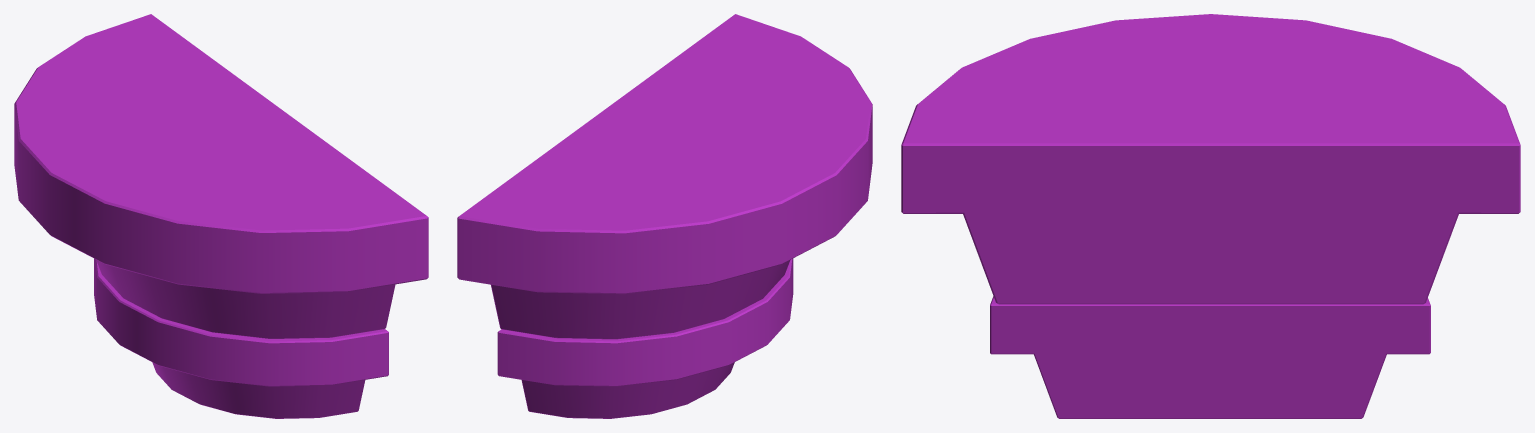
Rendered from Statues_Grp_03A.fbx.
3 renders of one model, left to right at view 1: azimuth 30°, elevation 25°; view 2: azimuth 150°, elevation 25°; view 3: azimuth 270°, elevation 25°, orthographic. The views are drawn at different scales.
Parts seen in each view (by area): view 1: Statues_Grp_03A; view 2: Statues_Grp_03A; view 3: Statues_Grp_03A.
Boxes of the visible parts, box(x1,y1,x2,y2) form: Statues_Grp_03A: box(14, 14, 428, 418); Statues_Grp_03A: box(457, 14, 872, 418); Statues_Grp_03A: box(901, 14, 1520, 418).
Bounding box in the file's own units: 128 × 125 × 255.
